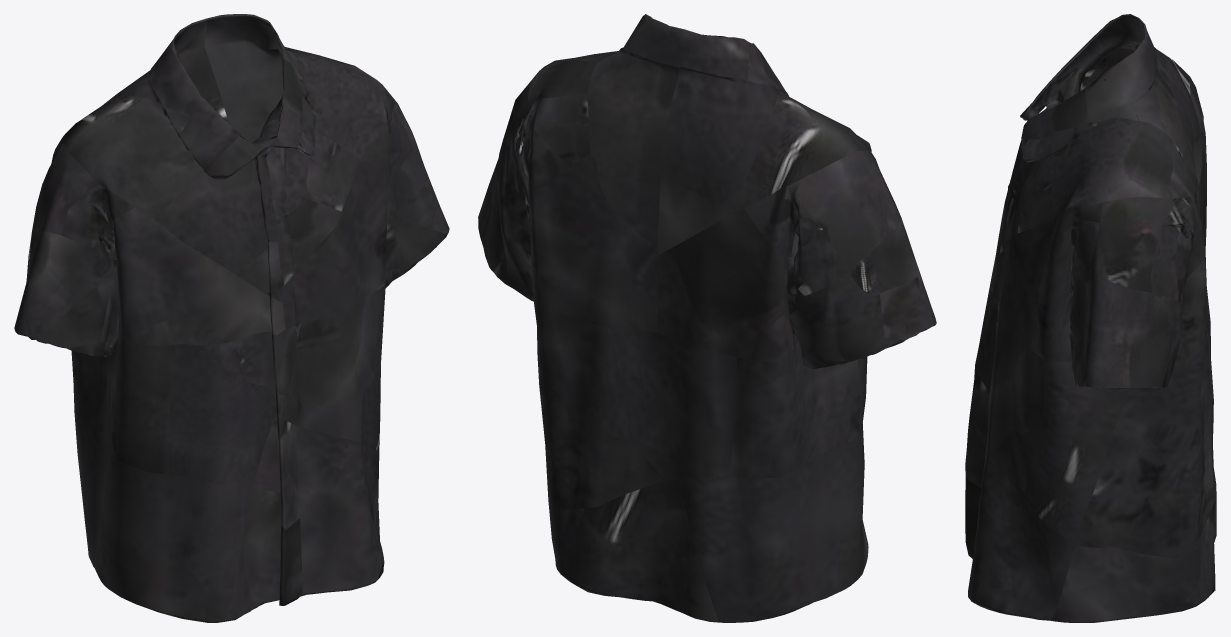
File: polo.glb
3 views of the same model, side by side, from view 1: azimuth 30°, elevation 25°; view 2: azimuth 150°, elevation 25°; view 3: azimuth 270°, elevation 25° (orthographic). The views are drawn at different scales.
Parts seen in each view (by area): view 1: garment; view 2: garment; view 3: garment.
Boxes of the visible parts, x1=… form: garment: x1=14, y1=14, x2=449, y2=622; garment: x1=478, y1=14, x2=936, y2=622; garment: x1=965, y1=14, x2=1216, y2=622.
Bounding box in the file's own units: 0.8587 × 0.9998 × 0.4282.
Materials: 1 (1 with a texture image).
